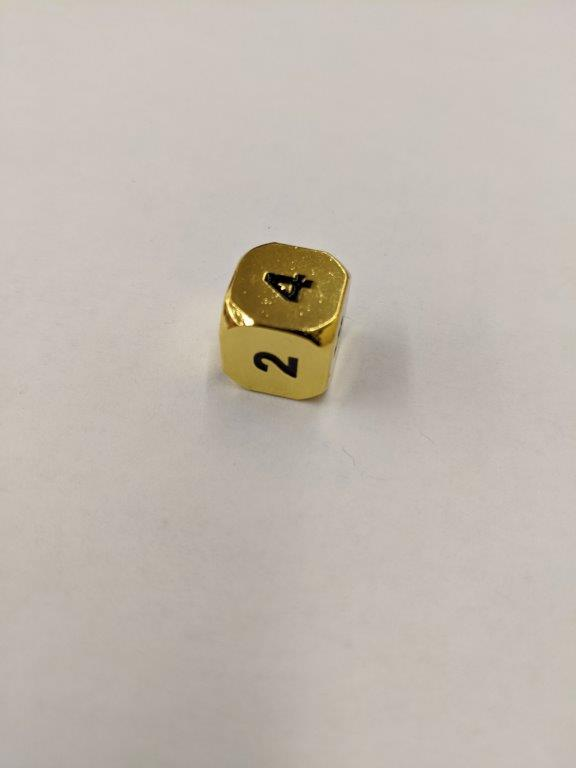d6-4: (216, 240, 348, 404)
